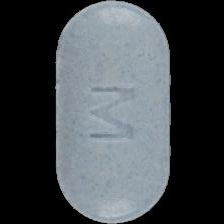54868-1093: (0, 0, 224, 224)
